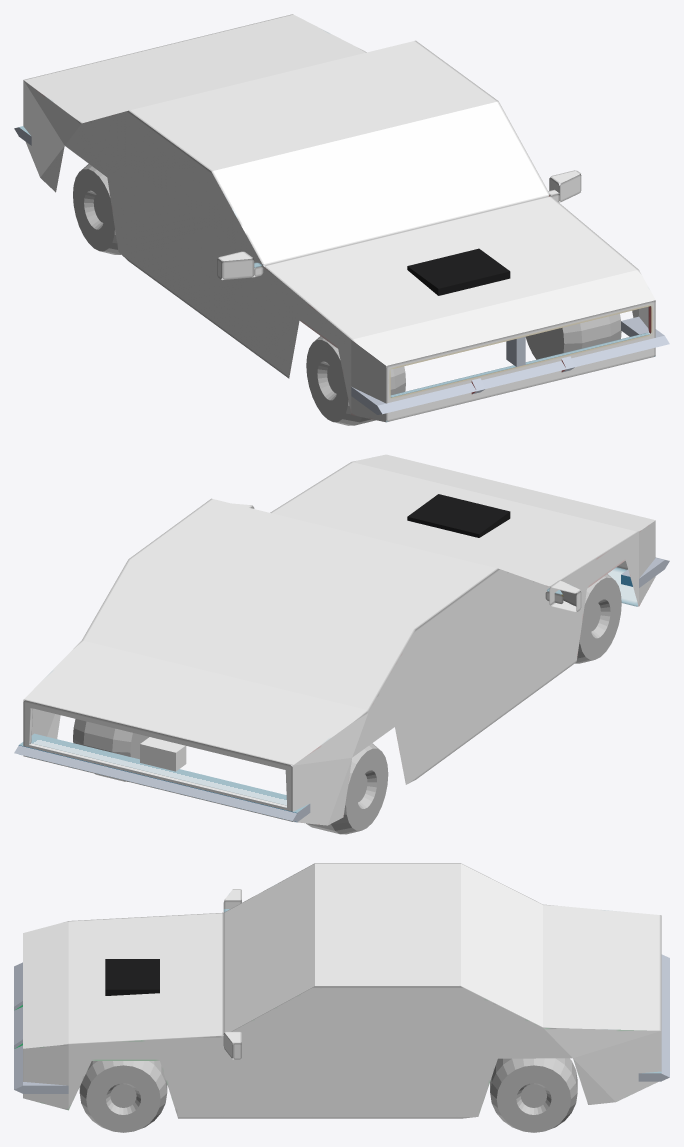
File: dml_judge.obj
3 renders of one model, top to bottom at view 1: azimuth 30°, elevation 25°; view 2: azimuth 150°, elevation 25°; view 3: azimuth 270°, elevation 25°, orthographic. The views are drawn at different scales.
Visible parts, largest first — view 1: Body, wheel-default, FrontBumper, HoodShaker; view 2: Body, wheel-default, RearBumper, HoodShaker, RearLicense; view 3: Body, wheel-default, HoodShaker, FrontBumper, RearBumper.
Part boxes in pixels (left/top/right/bottom): Body: left=23, top=14, right=655, bottom=422; wheel-default: left=73, top=164, right=621, bottom=425; FrontBumper: left=351, top=316, right=669, bottom=414; HoodShaker: left=407, top=248, right=510, bottom=295; Body: left=23, top=454, right=655, bottom=825; wheel-default: left=73, top=574, right=621, bottom=834; RearBumper: left=14, top=733, right=310, bottom=822; HoodShaker: left=407, top=494, right=510, bottom=537; RearLicense: left=140, top=737, right=186, bottom=771; Body: left=23, top=863, right=661, bottom=1118; wheel-default: left=79, top=1058, right=577, bottom=1132; HoodShaker: left=105, top=959, right=159, bottom=995; FrontBumper: left=14, top=962, right=68, bottom=1093; RearBumper: left=638, top=954, right=669, bottom=1081.
Bounding box in the file's own units: 2.5 × 1.17 × 4.49.
Materials: 5 (4 with a texture image).
